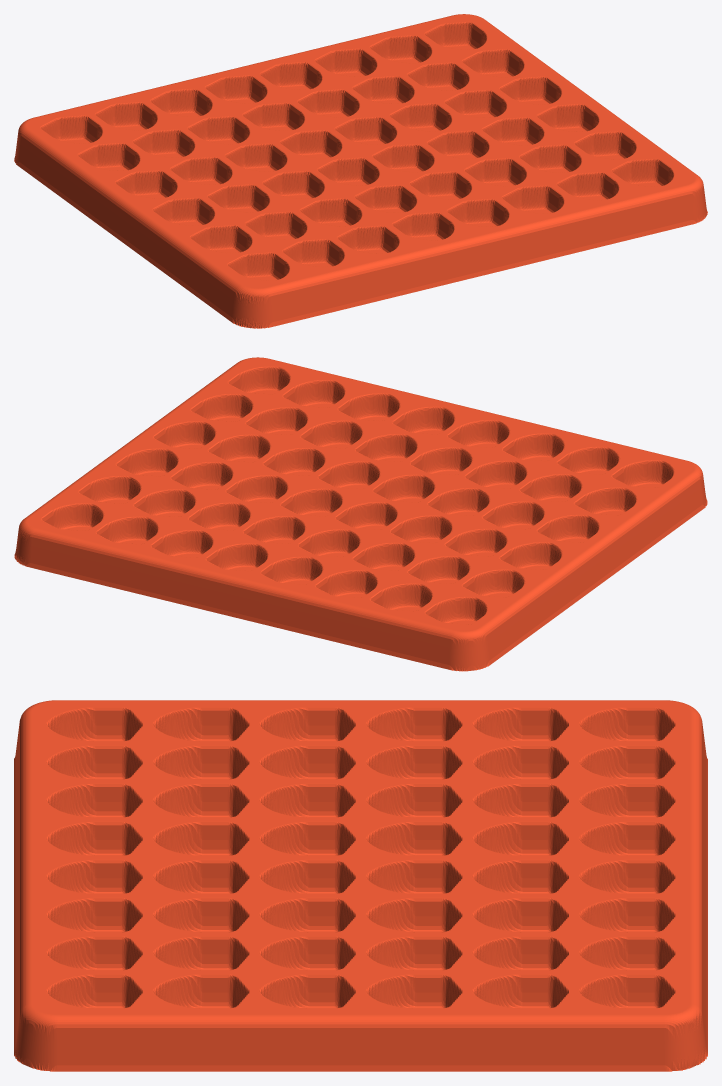
File: mold.glb
The picture shows the model from 3 angles, top to bottom: view 1: azimuth 30°, elevation 25°; view 2: azimuth 150°, elevation 25°; view 3: azimuth 270°, elevation 25°; orthographic projection. The views are drawn at different scales.
Visible parts, largest first — view 1: geometry_0; view 2: geometry_0; view 3: geometry_0.
Part boxes in pixels (box(x1,y1,x2,y2)): geometry_0: box(14, 14, 707, 328); geometry_0: box(14, 357, 707, 671); geometry_0: box(14, 700, 707, 1071).
Bounding box in the file's own units: 0.1616 × 0.0114 × 0.1443.
